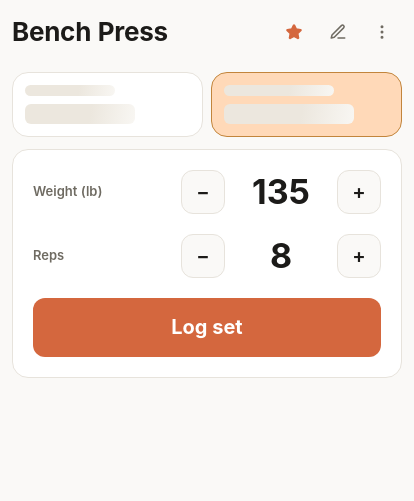
ExerciseDetail in-flight visual feedback › shows real weight/reps and stays editable -- not stuck on "Saving..." -- when a first set terminal-errors against an unreachable server
This screenshot has width=414, height=501.
Click the button "Log set" at point(207, 328), box [33,298,381,357]
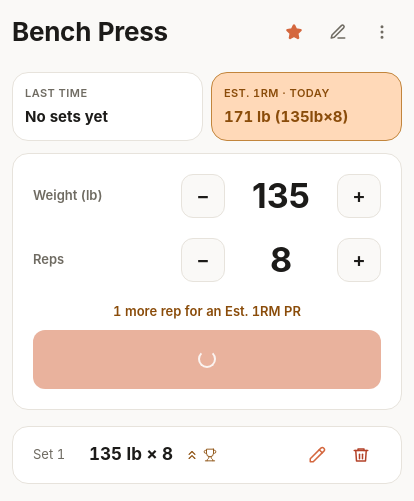
Result: the text "135 lb × 8" is shown at [89,442,173,467]
Result: the button named "Edit" is shown at [297,434,337,474]
Result: the button named "Delete" is shown at [341,434,381,474]
